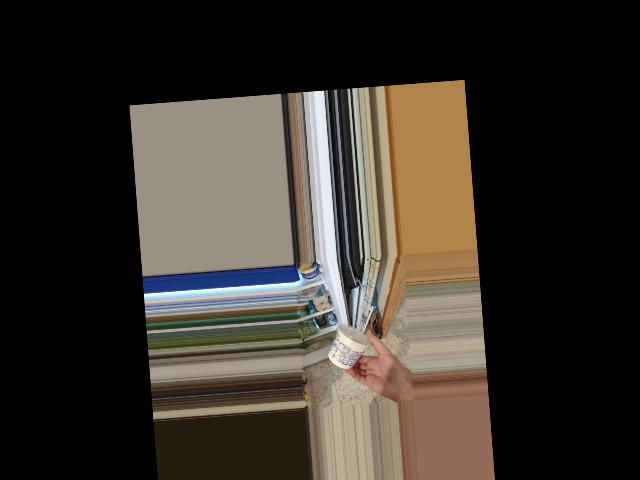cotage: (331, 327, 376, 369)
